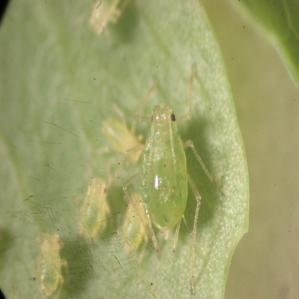Green peach aphid: (127, 92, 223, 242), (16, 216, 90, 299), (63, 157, 117, 243), (85, 111, 153, 164), (109, 188, 157, 256), (68, 0, 143, 43)
